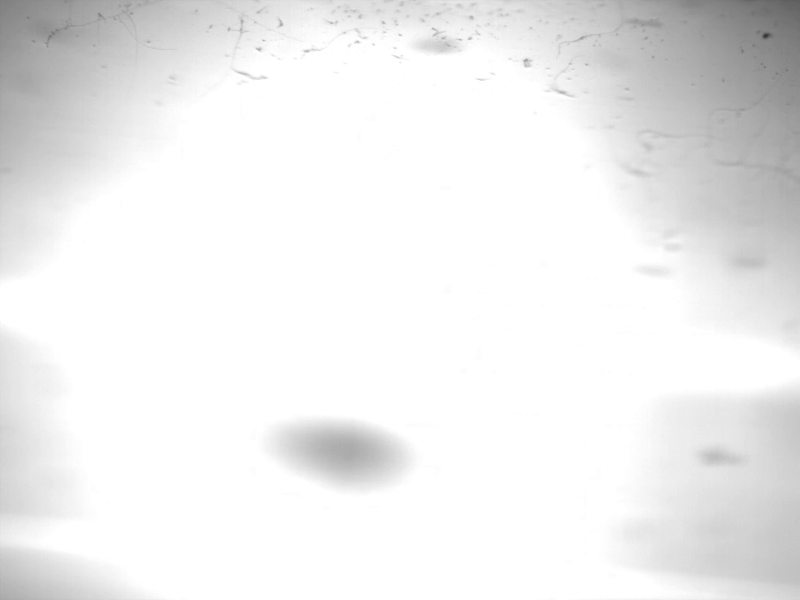bead: (267, 410, 418, 493), (690, 433, 743, 472), (725, 238, 768, 270), (631, 250, 674, 282), (409, 33, 463, 56)
fiber: (704, 65, 800, 189), (42, 1, 153, 50), (631, 128, 733, 174), (552, 1, 626, 60), (214, 1, 309, 44), (299, 21, 381, 59), (225, 15, 270, 83), (114, 9, 176, 58), (544, 49, 586, 100), (94, 10, 107, 46)
